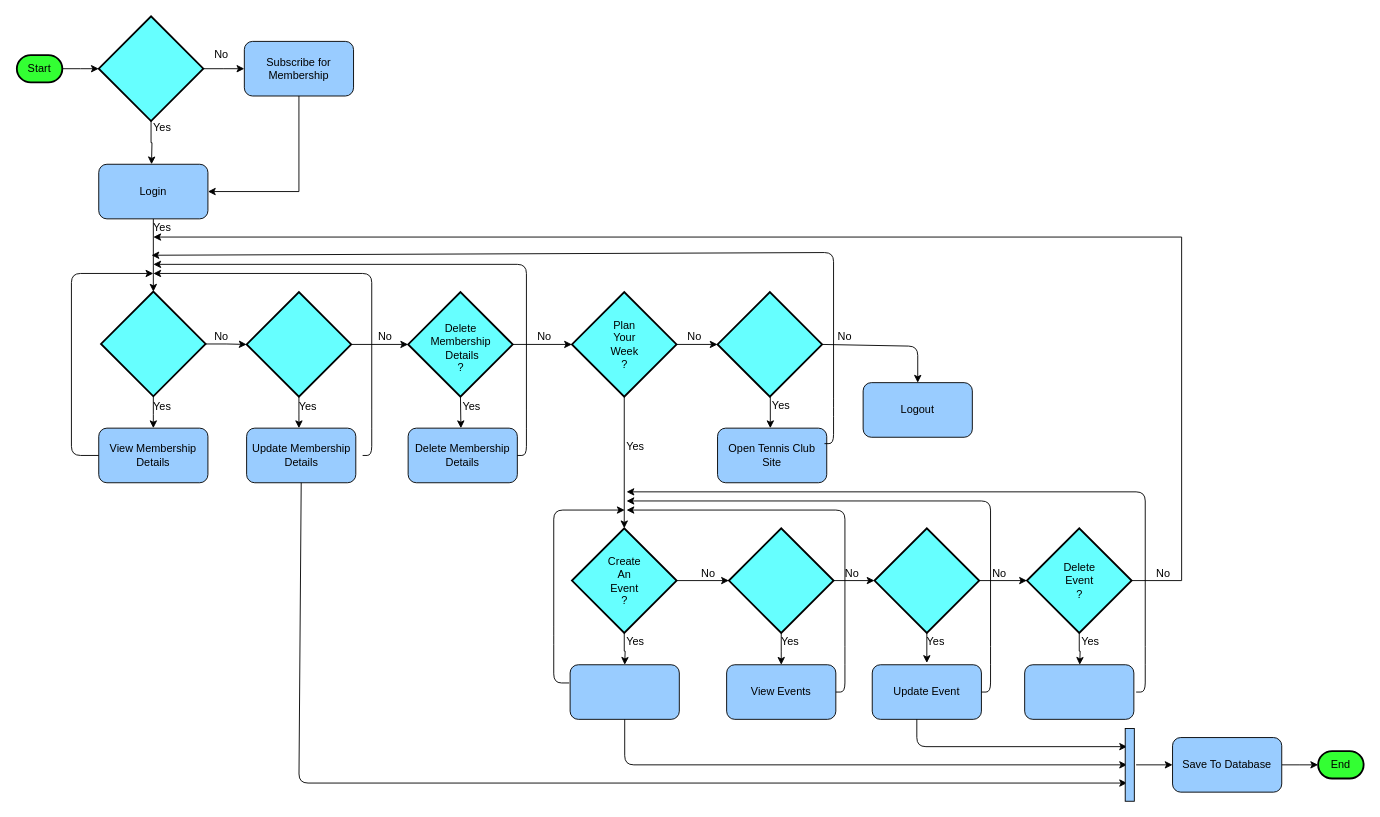
The diagram is 1380 pixels wide and 817 high, and some of its shapes have lost their labels. Here are the shapes that lost their labels. From the top down, the box of each, then its label:
(97, 15, 204, 121): Has Subscribed for Membership ?
(100, 290, 206, 397): View Membership Details ?
(245, 291, 352, 397): Update Membership Details ?
(716, 291, 823, 397): Open Tennis Club Site ?
(728, 527, 834, 633): View Events ?
(873, 527, 980, 633): Update Event ?
(569, 664, 679, 719): Create An Event
(1024, 664, 1134, 719): Delete Event
